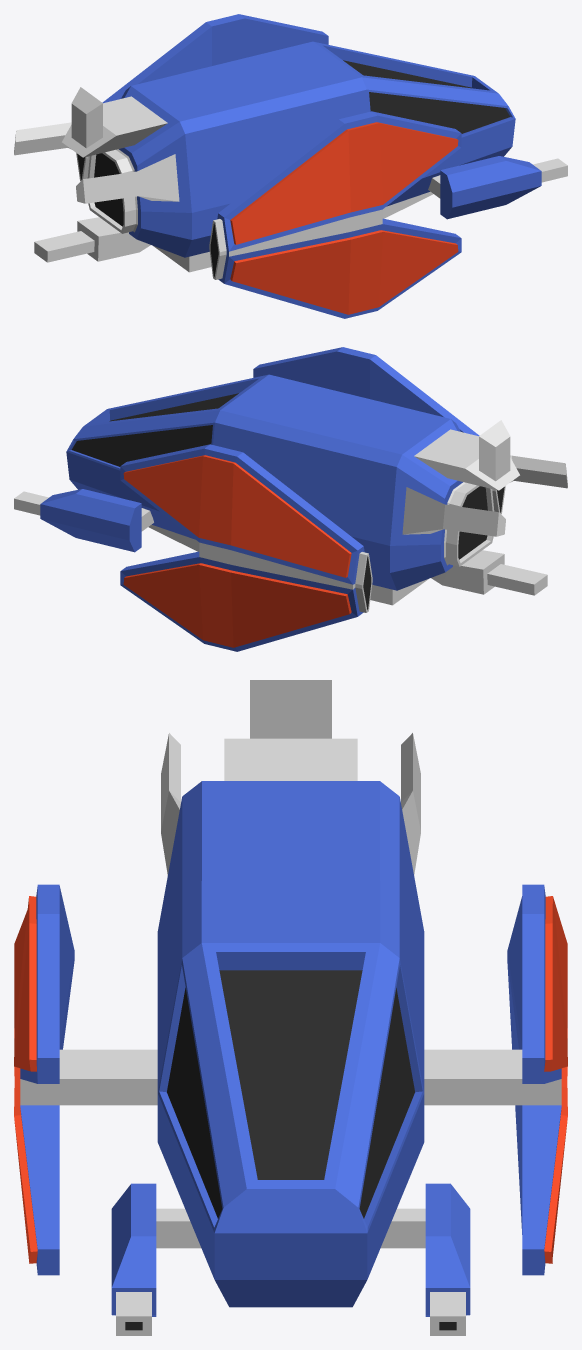
Rendered from Space_Ship.fbx.
The picture shows the model from 3 angles, top to bottom: view 1: azimuth 30°, elevation 25°; view 2: azimuth 150°, elevation 25°; view 3: azimuth 270°, elevation 25°; orthographic projection. The views are drawn at different scales.
Visible parts, largest first — view 1: Space_Ship; view 2: Space_Ship; view 3: Space_Ship.
Part boxes in pixels (bbox=[...]): Space_Ship: bbox=[14, 14, 567, 318]; Space_Ship: bbox=[14, 347, 567, 651]; Space_Ship: bbox=[14, 680, 567, 1335].
Bounding box in the file's own units: 758 × 329 × 416.
